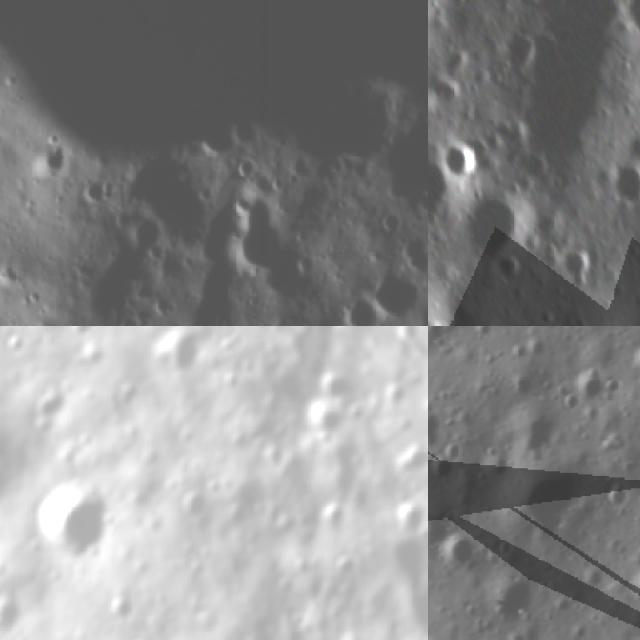crater: (24, 473, 116, 570), (496, 464, 596, 548), (458, 184, 534, 264), (371, 262, 425, 326), (22, 133, 76, 195), (428, 145, 462, 236), (554, 243, 603, 295), (599, 156, 640, 215), (492, 578, 539, 629), (512, 414, 564, 459), (487, 246, 534, 294), (380, 440, 428, 483), (436, 136, 482, 180), (569, 369, 616, 409), (331, 295, 387, 326), (440, 535, 482, 572), (327, 549, 359, 583), (392, 504, 426, 536), (428, 406, 450, 451), (610, 484, 636, 520), (620, 132, 640, 167), (319, 504, 350, 525), (428, 84, 442, 128), (0, 331, 21, 359), (322, 375, 348, 396), (215, 334, 240, 352), (631, 572, 640, 616), (58, 326, 96, 336), (632, 346, 640, 385), (123, 633, 148, 640)
